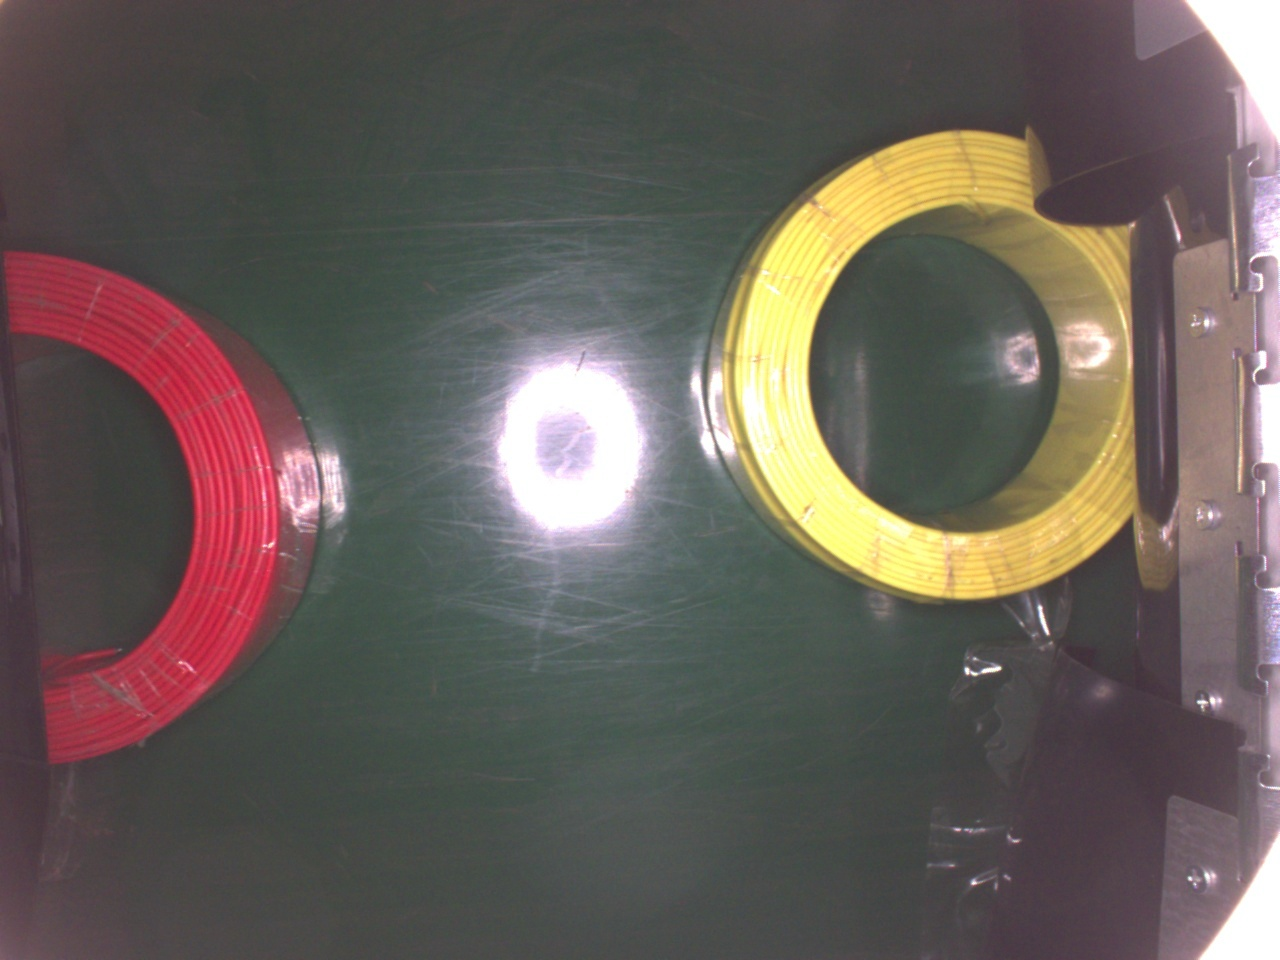red: (4, 247, 321, 770)
yellow: (701, 125, 1149, 604)
